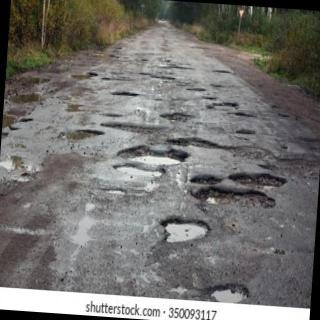pothole: (190, 187, 278, 210), (160, 217, 212, 244), (119, 146, 190, 165), (206, 283, 250, 304), (228, 173, 288, 188), (112, 163, 166, 177), (190, 175, 224, 185)
